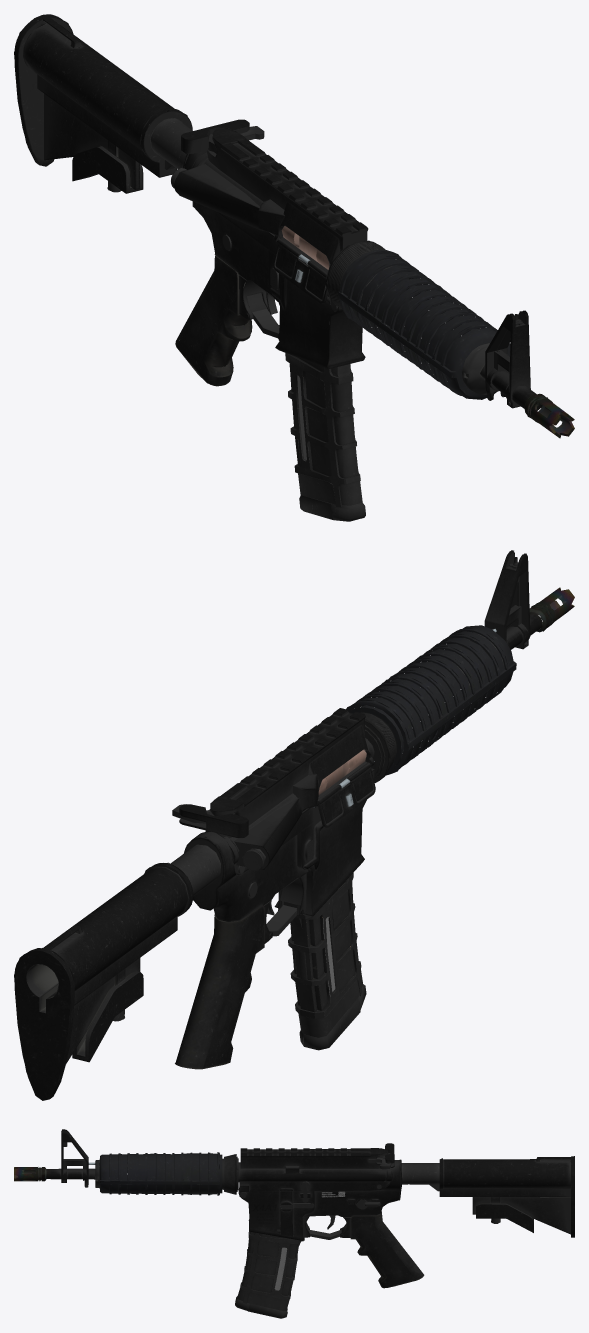
File: Rifle_AR15.fbx
3 renders of one model, top to bottom at view 1: azimuth 30°, elevation 25°; view 2: azimuth 150°, elevation 25°; view 3: azimuth 270°, elevation 25°, orthographic. The views are drawn at different scales.
Parts seen in each view (by area): view 1: GunMesh; view 2: GunMesh; view 3: GunMesh.
Boxes of the visible parts, bbox=[...] form: GunMesh: bbox=[14, 14, 574, 521]; GunMesh: bbox=[14, 550, 574, 1100]; GunMesh: bbox=[14, 1129, 574, 1318].
Size of the model in its own units: 0.0863 by 0.3131 by 0.86.
3 materials, 3 textured.
